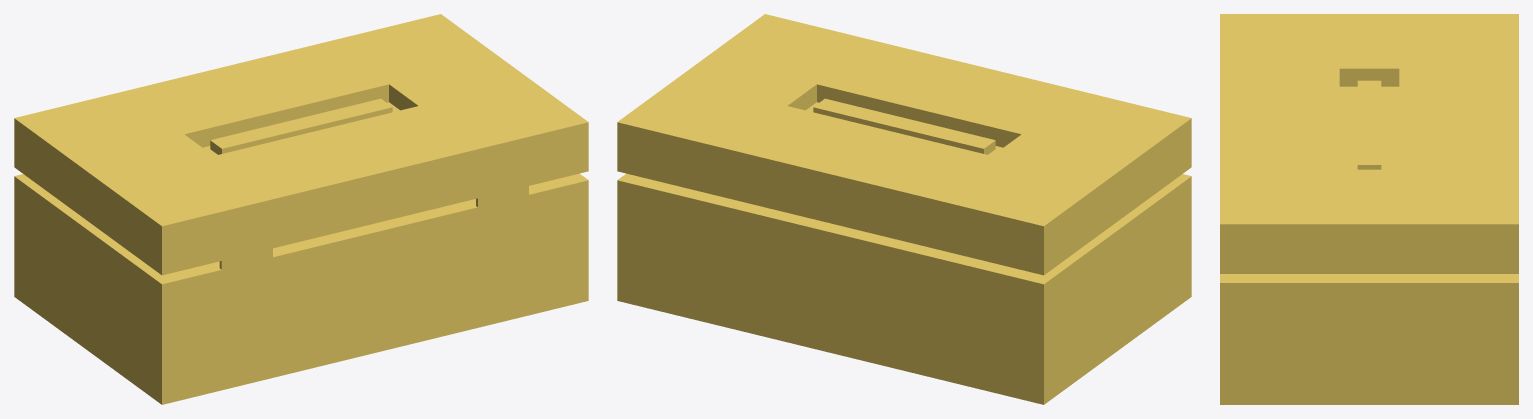
The model's file is toolkit.glb.
3 renders of one model, left to right at view 1: azimuth 30°, elevation 25°; view 2: azimuth 150°, elevation 25°; view 3: azimuth 270°, elevation 25°, orthographic.
Visible parts, largest first — view 1: toolkit; view 2: toolkit; view 3: toolkit.
Boxes of the visible parts, <box> form: toolkit: <box>14,14,588,404</box>; toolkit: <box>617,14,1191,404</box>; toolkit: <box>1220,14,1518,404</box>.
Size of the model in its own units: 0.5 by 0.2 by 0.3.
